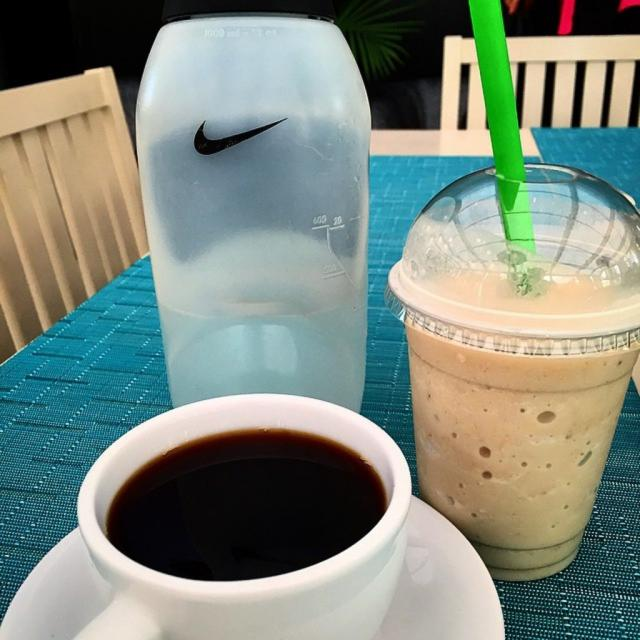Coffee: (58, 382, 445, 640), (400, 254, 636, 583)
Tea: (97, 423, 390, 587)
